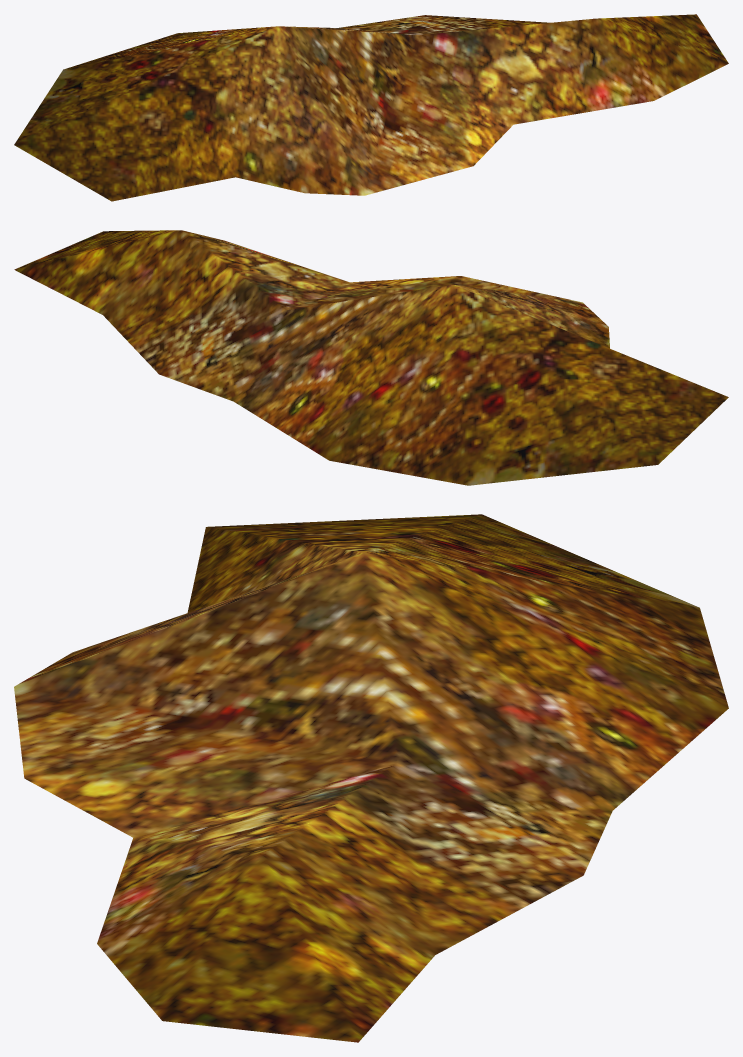
File: fb_yanwanggumu_caibaodui01.FBX
3 renders of one model, top to bottom at view 1: azimuth 30°, elevation 25°; view 2: azimuth 150°, elevation 25°; view 3: azimuth 270°, elevation 25°, orthographic. The views are drawn at different scales.
Parts seen in each view (by area): view 1: fb_yanwanggumu_caibaodui01; view 2: fb_yanwanggumu_caibaodui01; view 3: fb_yanwanggumu_caibaodui01.
Boxes of the visible parts, left/top/right/bottom form: fb_yanwanggumu_caibaodui01: left=14, top=14, right=728, bottom=201; fb_yanwanggumu_caibaodui01: left=14, top=230, right=728, bottom=485; fb_yanwanggumu_caibaodui01: left=14, top=514, right=728, bottom=1042.
Size of the model in its own units: 523 by 68.65 by 299.
1 material, 1 textured.
